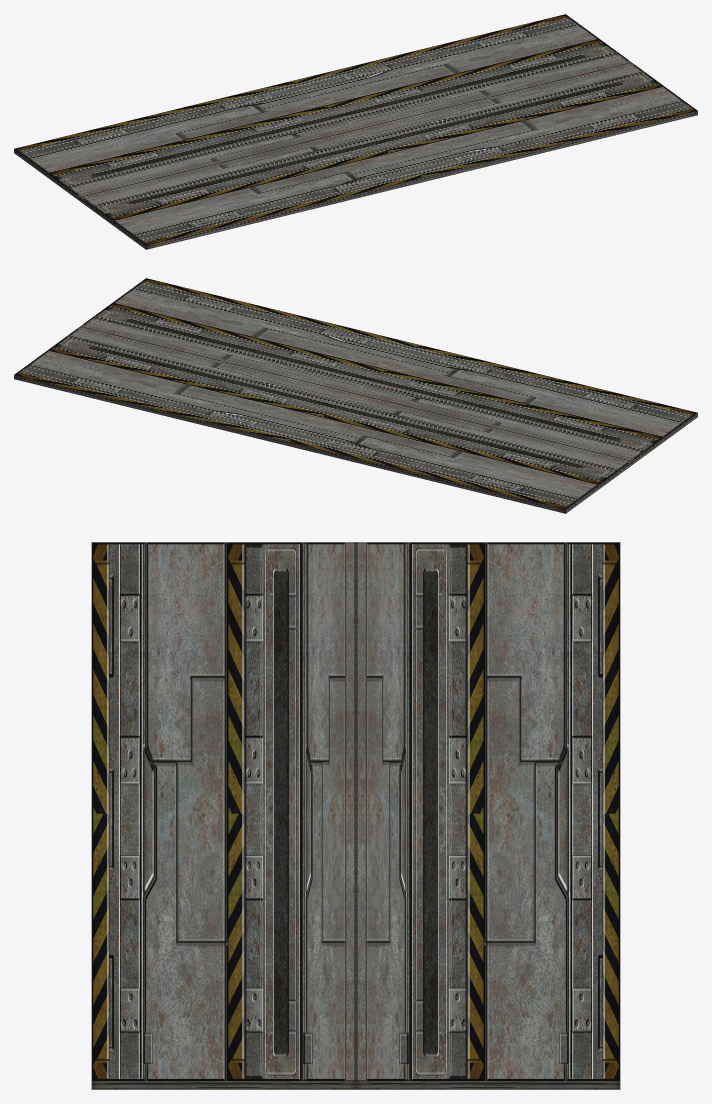
Rendered from floor_plan.FBX.
3 renders of one model, top to bottom at view 1: azimuth 30°, elevation 25°; view 2: azimuth 150°, elevation 25°; view 3: azimuth 270°, elevation 25°, orthographic. The views are drawn at different scales.
Visible parts, largest first — view 1: Box08; view 2: Box08; view 3: Box08.
Part boxes in pixels (x1,y1,x2,y2): Box08: (14,14,697,249); Box08: (14,278,697,513); Box08: (91,542,620,1089).
Bounding box in the file's own units: 1667 × 12.33 × 692.
1 material, 1 textured.
